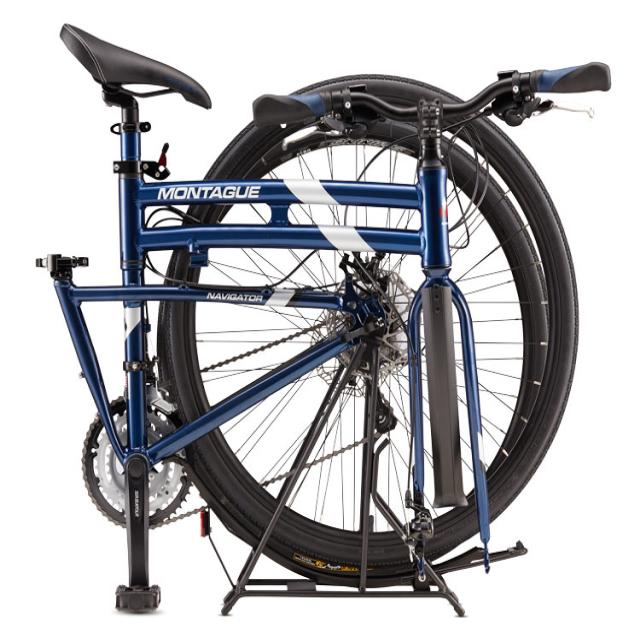folding-bike: (32, 15, 612, 619)
